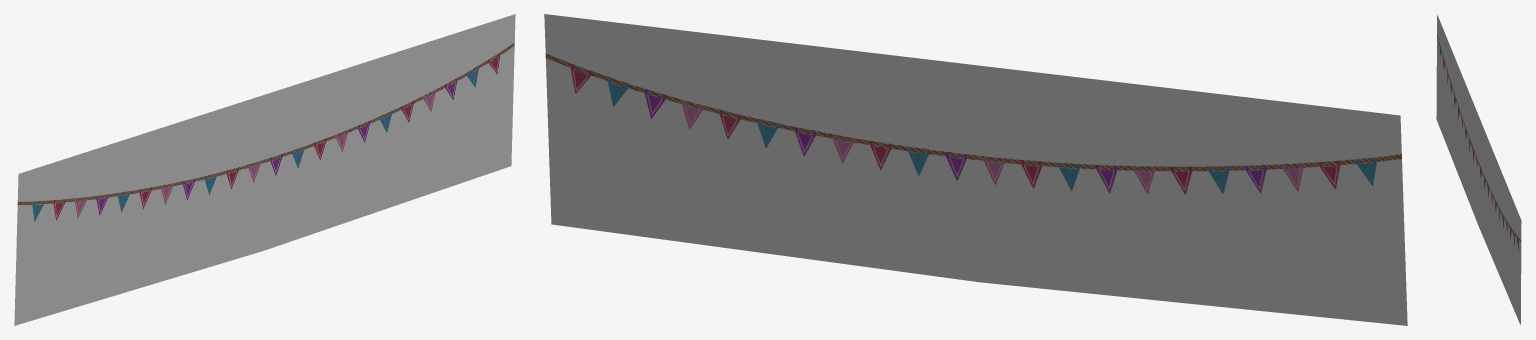
The picture shows the model from 3 angles, left to right: view 1: azimuth 30°, elevation 25°; view 2: azimuth 150°, elevation 25°; view 3: azimuth 270°, elevation 25°; orthographic projection. The views are drawn at different scales.
Parts seen in each view (by area): view 1: SM_garland004__1_; view 2: SM_garland004__1_; view 3: SM_garland004__1_.
Part boxes in pixels (x1,y1,x2,y2): SM_garland004__1_: (14, 14, 515, 325); SM_garland004__1_: (544, 14, 1407, 325); SM_garland004__1_: (1436, 15, 1521, 324).
Bounding box in the file's own units: 786 × 227 × 145.
